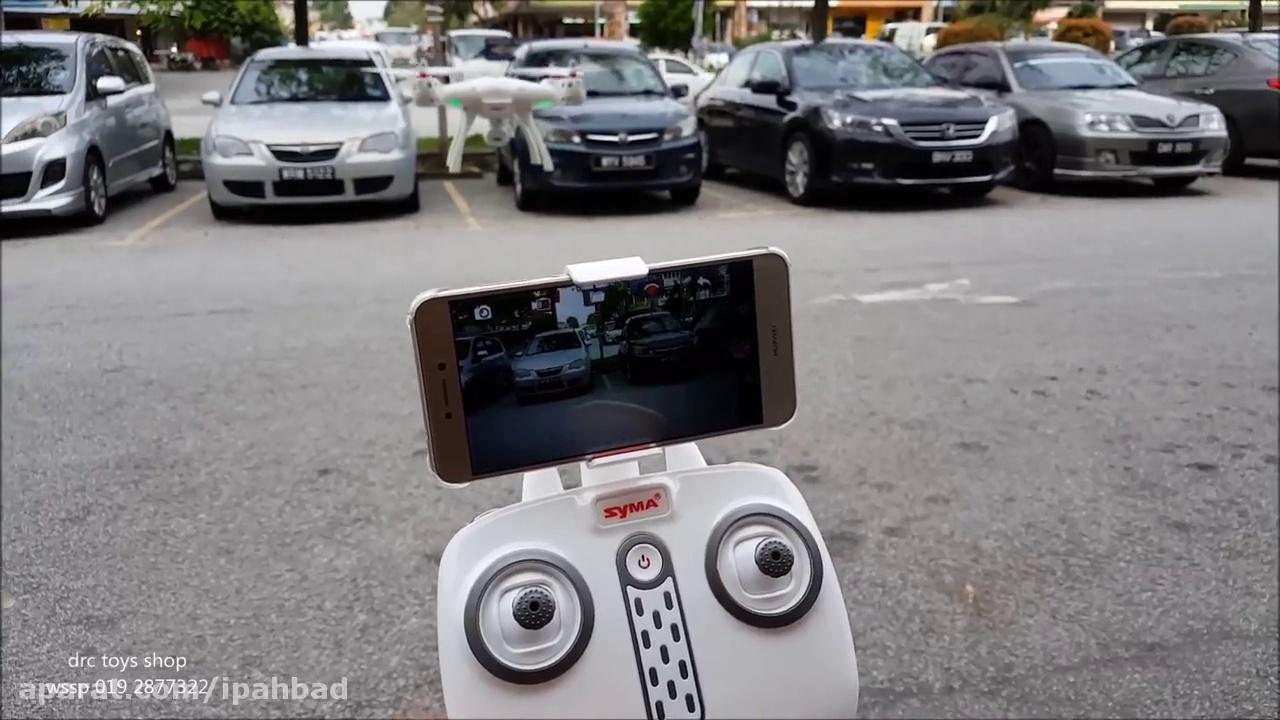drone: (395, 55, 604, 171)
